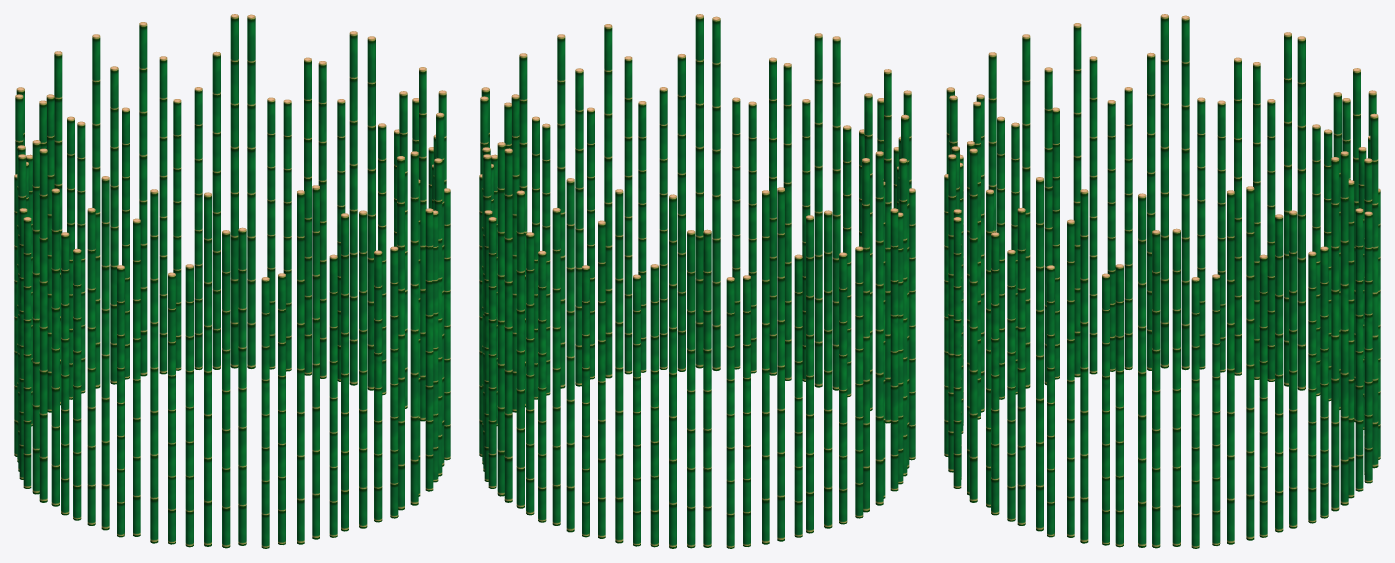
Rendered from BAMBULOW188.fbx.
3 renders of one model, left to right at view 1: azimuth 30°, elevation 25°; view 2: azimuth 150°, elevation 25°; view 3: azimuth 270°, elevation 25°, orthographic.
Visible parts, largest first — view 1: BAMBULOW188; view 2: BAMBULOW188; view 3: BAMBULOW188.
Boxes of the visible parts, x1,y1,x2,y2 form: BAMBULOW188: [14, 14, 450, 548]; BAMBULOW188: [479, 14, 915, 548]; BAMBULOW188: [944, 14, 1380, 548].
Size of the model in its own units: 3158 by 2811 by 3168.
